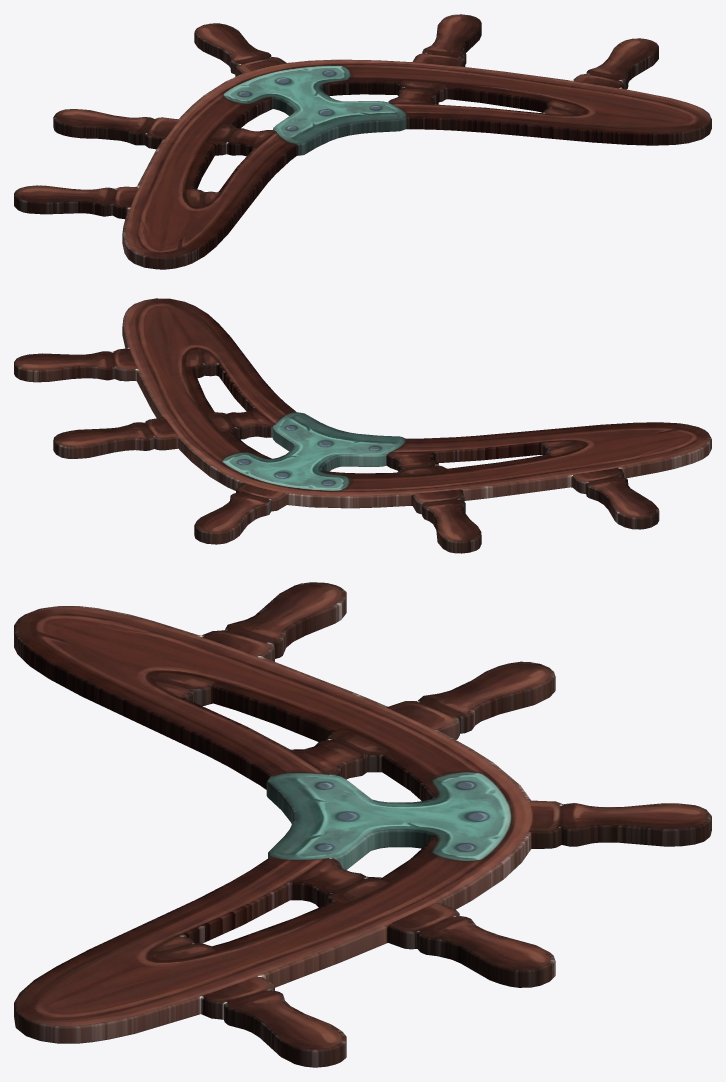
File: Boomerang_47.fbx
3 renders of one model, top to bottom at view 1: azimuth 30°, elevation 25°; view 2: azimuth 150°, elevation 25°; view 3: azimuth 270°, elevation 25°, orthographic. The views are drawn at different scales.
Visible parts, largest first — view 1: Boomerang_47; view 2: Boomerang_47; view 3: Boomerang_47.
Boxes of the visible parts, box(x1,y1,x2,y2) form: Boomerang_47: box(14, 14, 711, 269); Boomerang_47: box(14, 298, 711, 553); Boomerang_47: box(14, 582, 711, 1067).
Bounding box in the file's own units: 223 × 3.8 × 140.
1 material, 1 textured.
